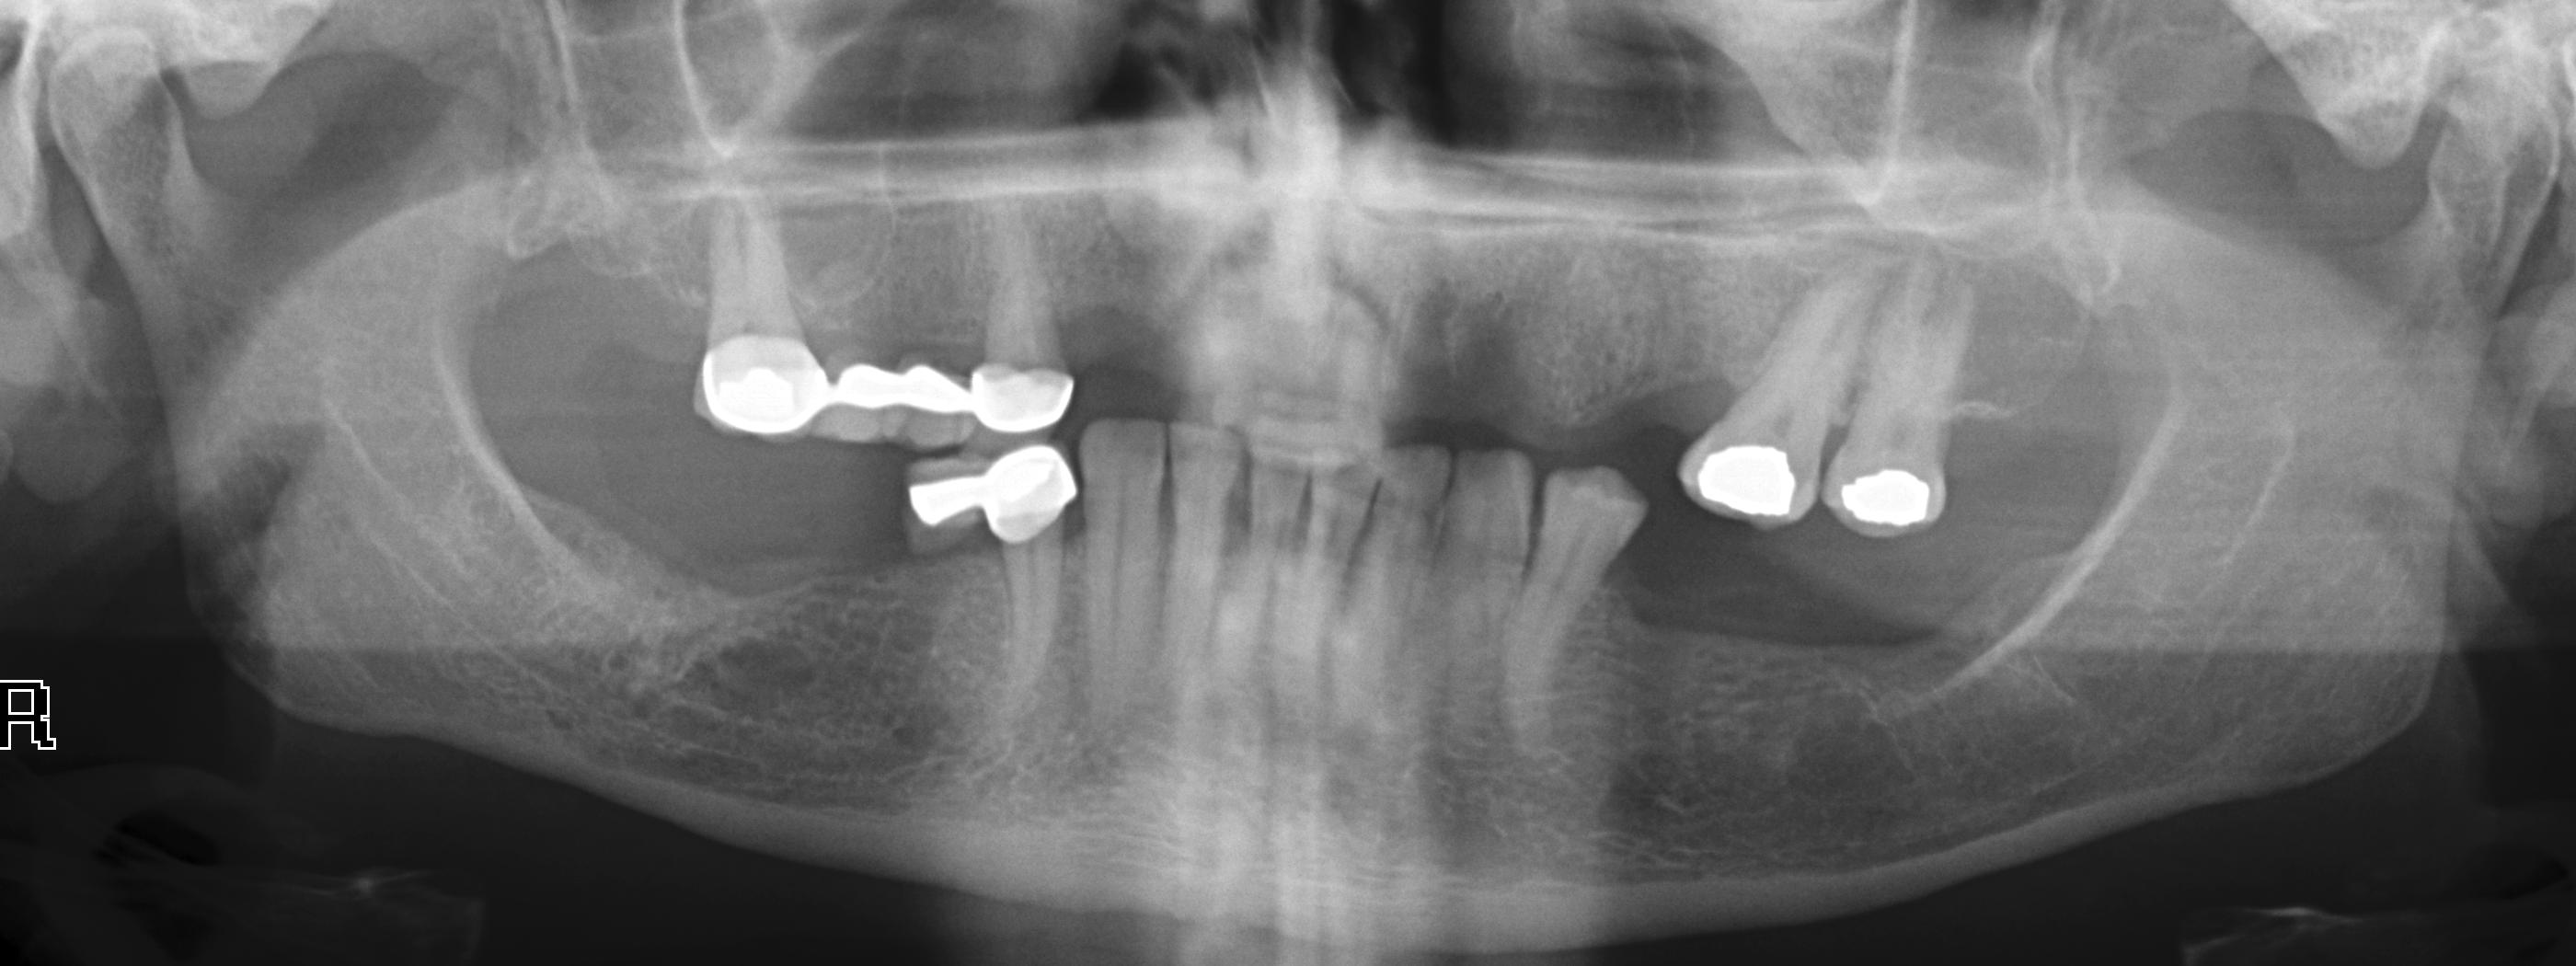Çürük: (682, 320, 836, 442), (894, 450, 1088, 540), (1674, 424, 1814, 527), (1833, 445, 1948, 552), (966, 352, 1086, 442)
